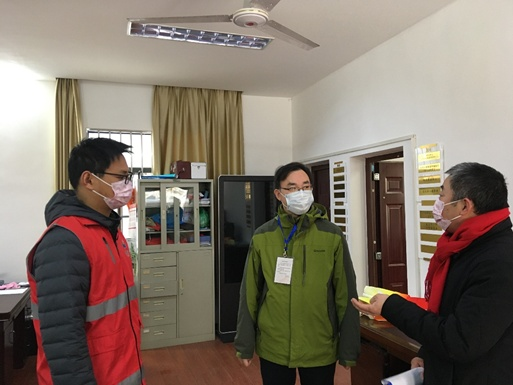correctlyWear: (80, 165, 135, 210), (431, 182, 473, 232), (275, 178, 314, 215)
